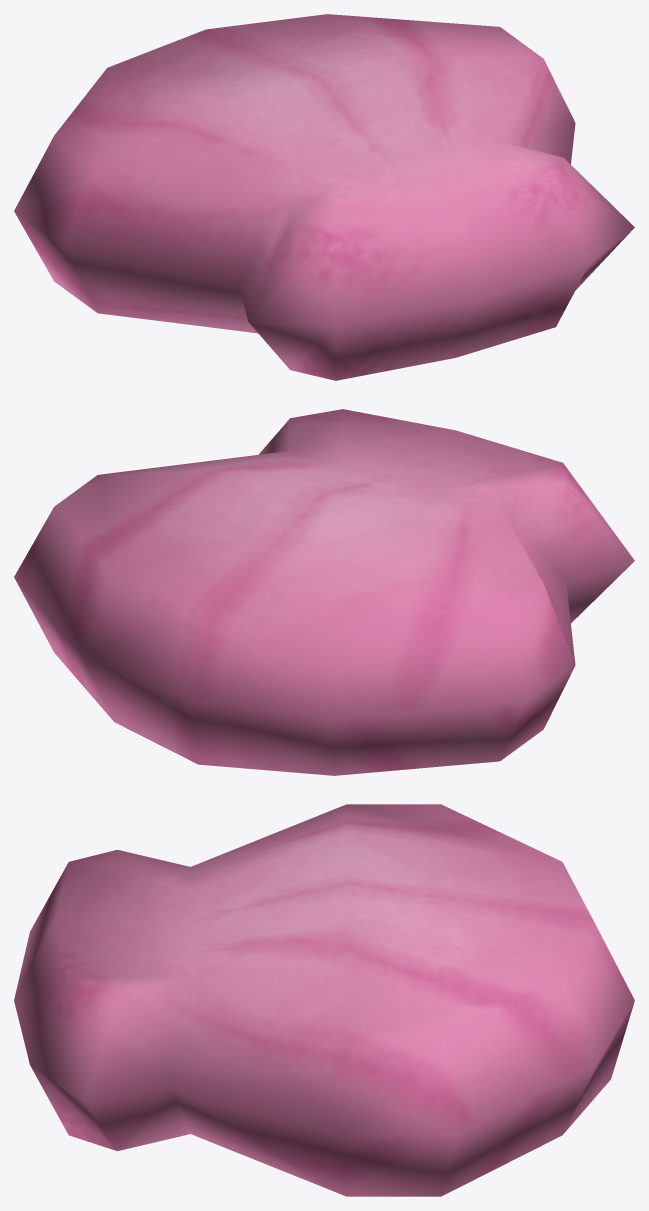
The model's file is SeaShell_Model.fbx.
3 renders of one model, top to bottom at view 1: azimuth 30°, elevation 25°; view 2: azimuth 150°, elevation 25°; view 3: azimuth 270°, elevation 25°, orthographic. The views are drawn at different scales.
Visible parts, largest first — view 1: SeaShell; view 2: SeaShell; view 3: SeaShell.
Part boxes in pixels (x1,y1,x2,y2): SeaShell: (14, 14, 634, 380); SeaShell: (14, 409, 634, 775); SeaShell: (14, 804, 634, 1196).
Size of the model in its own units: 0.172 by 0.0693 by 0.1674.
